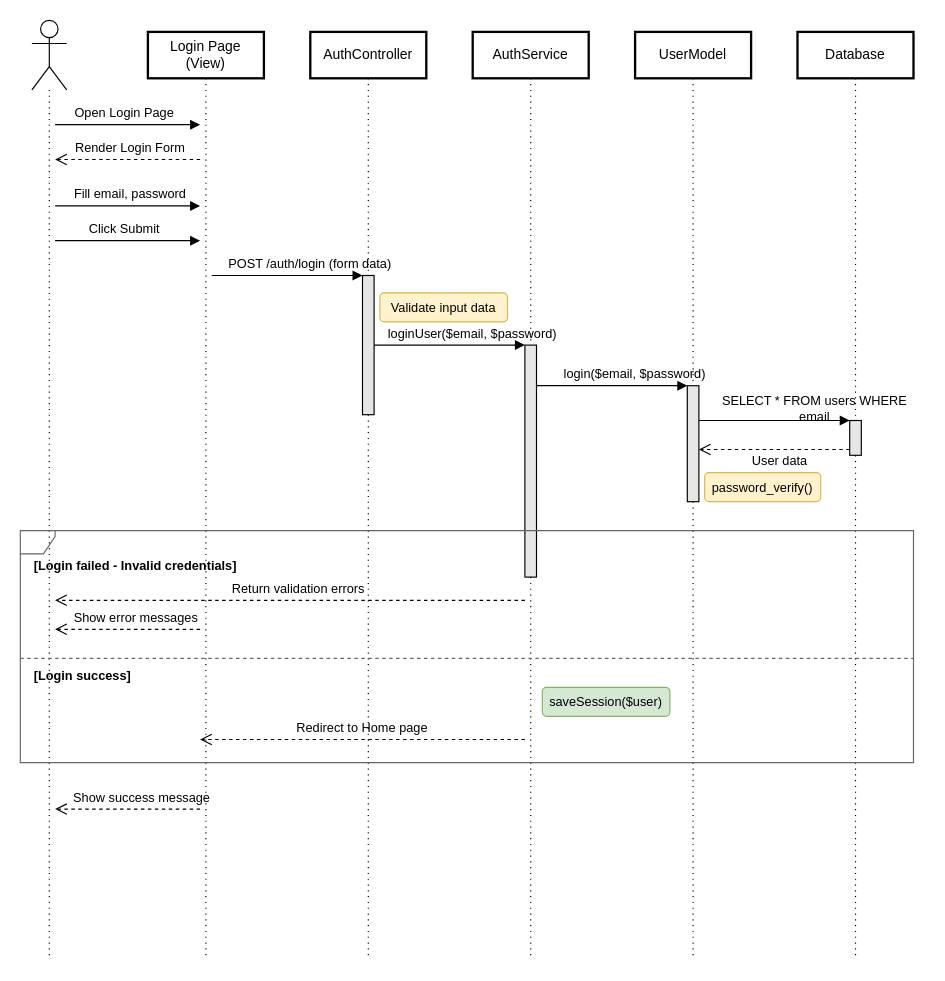
This 945x981 diagram has some shape labels left out. The shapes that lost their labels are listed below. From the top down, each one's box as (x1, y1, x2, y2) in pixels, then its label:
(31, 19, 67, 90): User
(19, 530, 913, 763): alt
